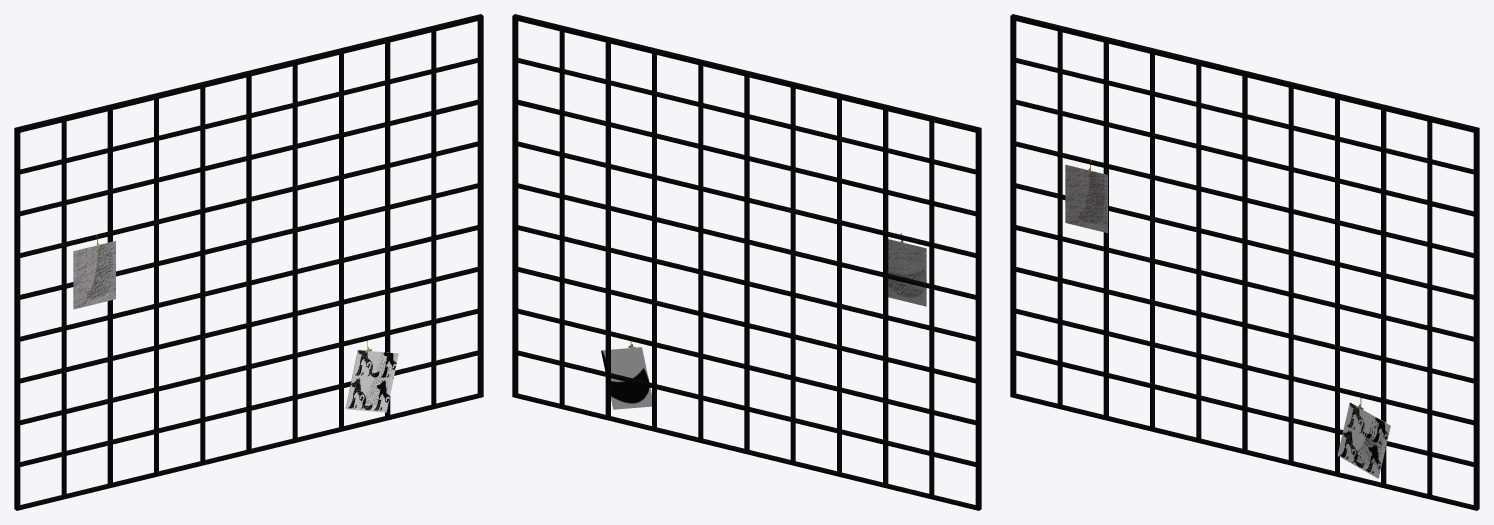
Rendered from GradePapeisLab.dae.
3 renders of one model, left to right at view 1: azimuth 30°, elevation 25°; view 2: azimuth 150°, elevation 25°; view 3: azimuth 330°, elevation 25°, orthographic.
Visible parts, largest first — view 1: instance_0, group_9, group_2; view 2: instance_0, group_2, group_9; view 3: instance_0, group_9, group_2.
Part boxes in pixels (<box>): instance_0: <box>14,14,483,510</box>; group_9: <box>73,241,115,309</box>; group_2: <box>346,350,398,412</box>; instance_0: <box>512,14,981,510</box>; group_2: <box>601,347,651,409</box>; group_9: <box>888,239,926,306</box>; instance_0: <box>1010,14,1479,510</box>; group_9: <box>1065,164,1107,232</box>; group_2: <box>1337,402,1390,478</box>.
Bounding box in the file's own units: 39.37 × 0.551 × 30.71.
7 materials, 5 textured.
